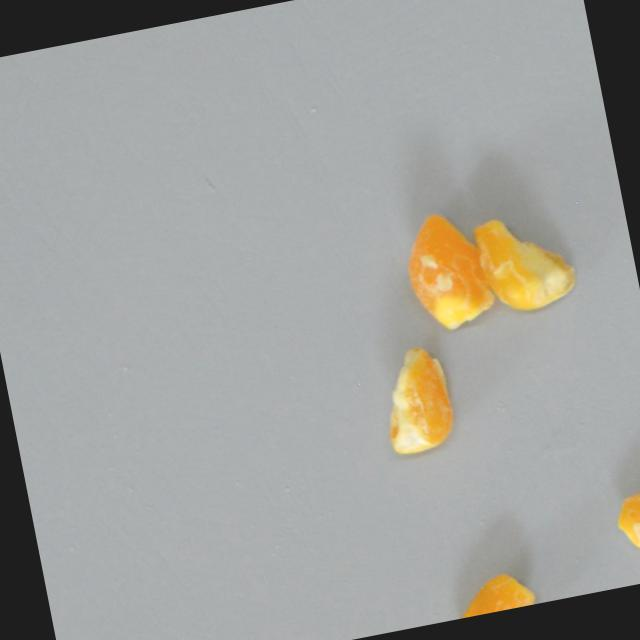pelicula: (391, 202, 503, 338), (467, 201, 581, 321), (363, 335, 469, 463), (444, 565, 536, 620), (597, 477, 640, 568)
